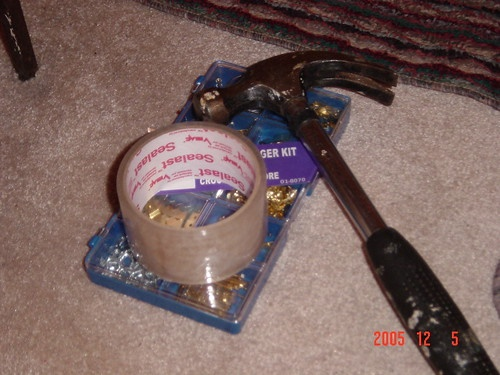hammer: (192, 48, 476, 323)
